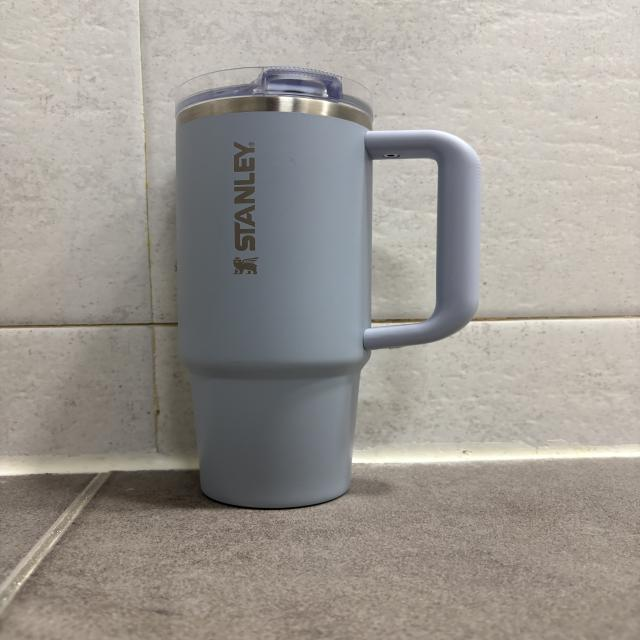waterbottle: (173, 65, 478, 509)
